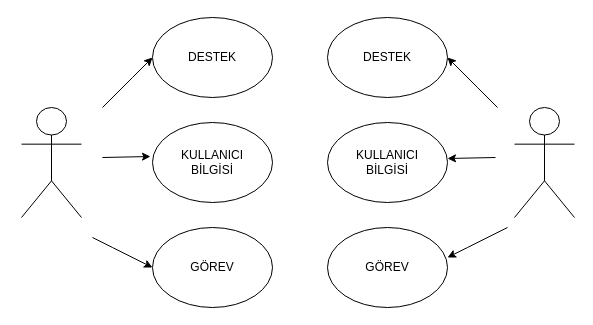
Some shapes in this 593 by 325 pixel diagram are drawn without their labels. Here are the shapes that lost their labels. From the top down, the centre of each, then its label:
At [51,162]: "TEKNİSYEN".
At [544,162]: "TEDARİKÇİ".
